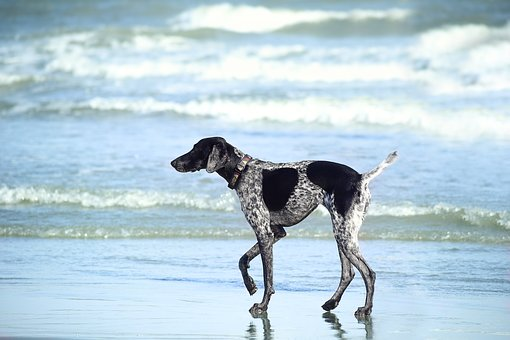beach: (4, 1, 504, 337)
dog: (167, 132, 409, 319)
